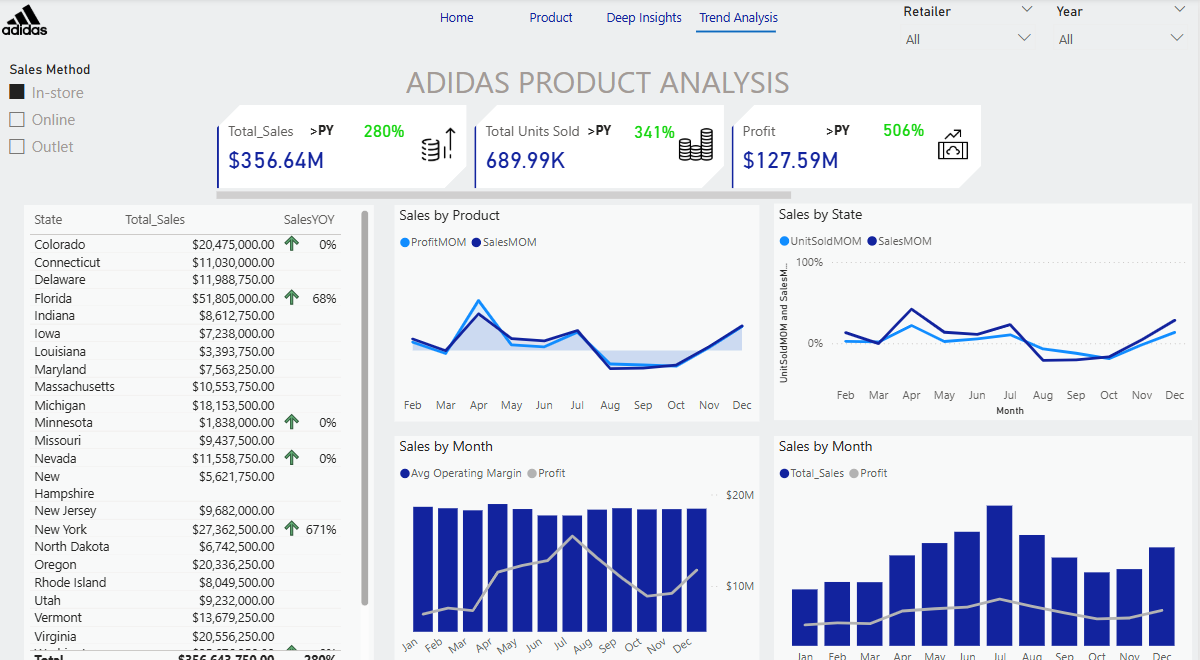

What the dashboard file says about the page in this screenshot:
{"tool":"powerbi","page":{"name":"Trend Analysis","canvas":[1280,720],"ordinal":3},"visuals":[{"type":"image","box":[0,0,58.6,46.6],"z":0},{"type":"actionButton","box":[440,0,100,40],"z":0,"group":"g1"},{"type":"actionButton","box":[540,0,100,40],"z":1000,"group":"g1"},{"type":"slicer","fields":{"Values":["Data Sales Adidas.Sales Method"]},"box":[0,62,144,128],"z":1000},{"type":"actionButton","box":[640,0,100,40],"z":2000,"group":"g1"},{"type":"card","fields":{"Values":["Data Sales Adidas.SalesMOM"]},"box":[354.4,107.3,93.2,56.7],"z":2000},{"type":"actionButton","box":[740,0,100,40],"z":3000,"group":"g1"},{"type":"slicer","fields":{"Values":["Calendar.Year"]},"box":[1115.9,0,163.6,60.2],"z":3000},{"type":"group","id":"g1","title":"Group 2","box":[440,0,400,46.6],"z":4000},{"type":"shape","box":[745.8,26.3,85.1,20.3],"z":4000,"group":"g1"},{"type":"textbox","box":[390,60,500,63.3],"z":5000},{"type":"cardVisual","fields":{"Data":["Data Sales Adidas.Total_Sales","Data Sales Adidas.Total Units Sold","Data Sales Adidas.Profit","Data Sales Adidas.Trans Count"]},"box":[228,108,826,112],"z":6000},{"type":"areaChart","title":"Sales by Product","fields":{"Category":["Calendar.Month"],"Y":["Data Sales Adidas.ProfitMOM","Data Sales Adidas.SalesMOM"]},"box":[423.3,220.8,388.9,230.9],"z":7000},{"type":"lineChart","title":"Sales by State","fields":{"Category":["Calendar.Month"],"Y":["Data Sales Adidas.UnitSoldMOM","Data Sales Adidas.SalesMOM"]},"box":[828.4,218.7,445.6,230.9],"z":8000},{"type":"lineClusteredColumnComboChart","title":"Sales by Month","fields":{"Y":["Data Sales Adidas.Total_Sales"],"Y2":["Data Sales Adidas.Profit"],"Category":["Calendar.Month"]},"box":[828.4,465.8,445.6,253.2],"z":9000},{"type":"card","fields":{"Values":["Data Sales Adidas.UnitSoldYOY"]},"box":[664.3,119.5,70.9,46.6],"z":10000},{"type":"card","fields":{"Values":["Data Sales Adidas.TransCountYOY"]},"box":[931.6,113.4,66.8,54.7],"z":11000},{"type":"card","fields":{"Values":["Data Sales Adidas.SalesYOY"]},"box":[374.7,117.5,72.9,46.6],"z":12000},{"type":"textbox","box":[328.1,125.6,46.6,40.5],"z":13000},{"type":"textbox","box":[623.8,125.6,66.8,38.5],"z":14000},{"type":"textbox","box":[877,125.6,54.7,38.5],"z":15000},{"type":"lineClusteredColumnComboChart","title":"Sales by Month","fields":{"Category":["Calendar.Month"],"Y":["Data Sales Adidas.Avg Operating Margin"],"Y2":["Data Sales Adidas.Profit"]},"box":[423.3,465.8,388.9,255.2],"z":16000},{"type":"tableEx","title":"Sales by Product","fields":{"Values":["Location.State","Data Sales Adidas.Total_Sales","Data Sales Adidas.SalesYOY"]},"box":[28.4,220.8,372.7,498.2],"z":17000},{"type":"slicer","fields":{"Values":["Data Sales Adidas.Retailer"]},"box":[951.9,0,164.1,60.8],"z":18000}]}

Visuals, with their boxes in screenshot pixels (x1, y1, x2, y2), scaled from the page's 1280x720 canvas onto the 1200x660 screenshot:
image: bbox=(0, 0, 55, 43)
actionButton: bbox=(412, 0, 506, 37)
actionButton: bbox=(506, 0, 600, 37)
slicer - Data Sales Adidas.Sales Method: bbox=(0, 57, 135, 174)
actionButton: bbox=(600, 0, 694, 37)
card - Data Sales Adidas.SalesMOM: bbox=(332, 98, 420, 150)
actionButton: bbox=(694, 0, 788, 37)
slicer - Calendar.Year: bbox=(1046, 0, 1199, 55)
"Group 2" group: bbox=(412, 0, 788, 43)
shape: bbox=(699, 24, 779, 43)
textbox: bbox=(366, 55, 834, 113)
cardVisual - Data Sales Adidas.Total_Sales x Data Sales Adidas.Total Units Sold: bbox=(214, 99, 988, 202)
"Sales by Product" areaChart: bbox=(397, 202, 761, 414)
"Sales by State" lineChart: bbox=(777, 200, 1194, 412)
"Sales by Month" lineClusteredColumnComboChart: bbox=(777, 427, 1194, 659)
card - Data Sales Adidas.UnitSoldYOY: bbox=(623, 110, 689, 152)
card - Data Sales Adidas.TransCountYOY: bbox=(873, 104, 936, 154)
card - Data Sales Adidas.SalesYOY: bbox=(351, 108, 420, 150)
textbox: bbox=(308, 115, 351, 152)
textbox: bbox=(585, 115, 647, 150)
textbox: bbox=(822, 115, 873, 150)
"Sales by Month" lineClusteredColumnComboChart: bbox=(397, 427, 761, 659)
"Sales by Product" tableEx: bbox=(27, 202, 376, 659)
slicer - Data Sales Adidas.Retailer: bbox=(892, 0, 1046, 56)
